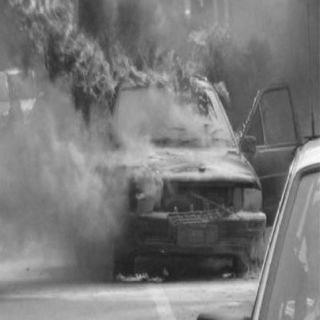Fire: (12, 6, 250, 114), (223, 92, 260, 148)
